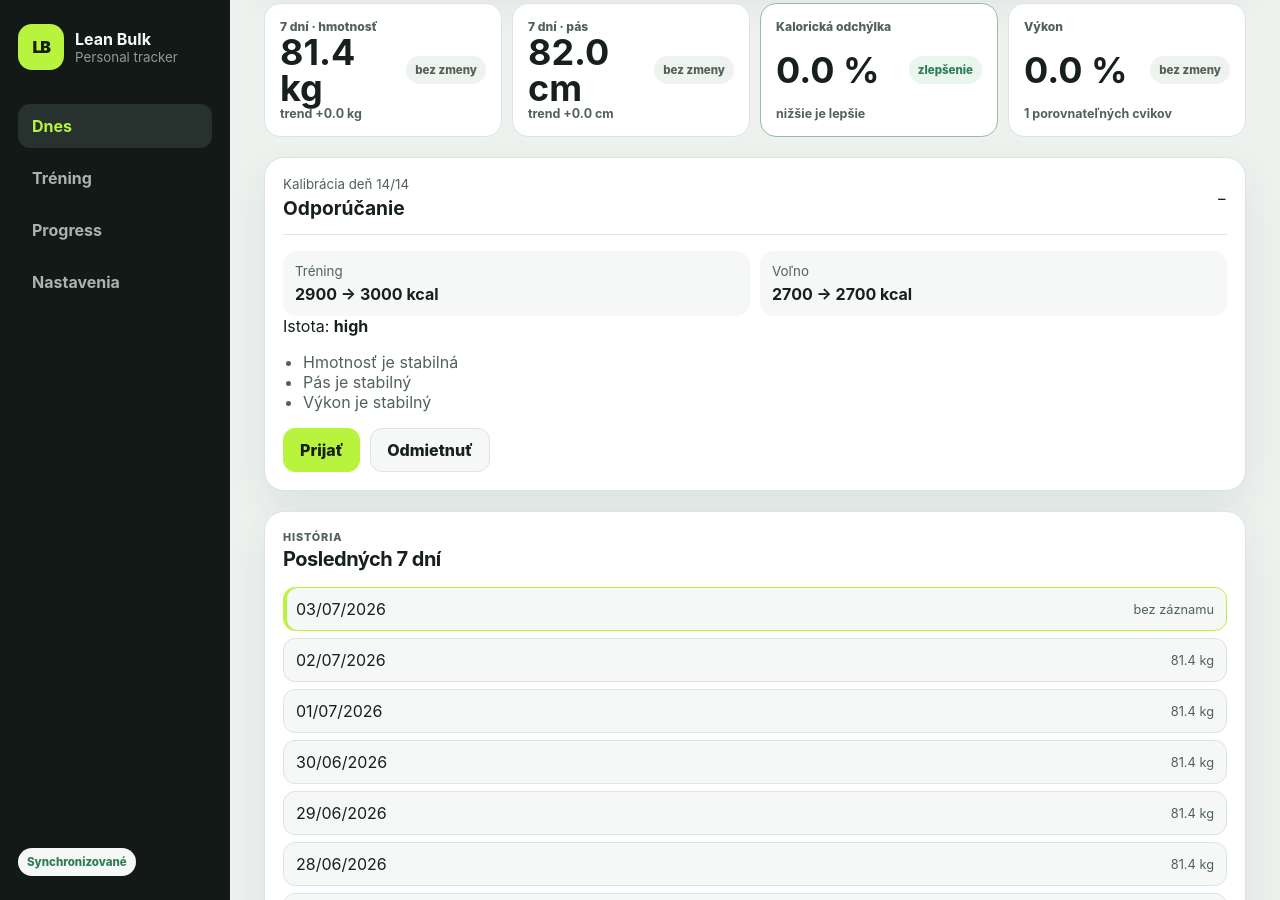
it: App demo mode › unlocks recommendation decisions and shows an error after a failed save
The image size is (1280, 900).
(page scrolled)
Click the button "Prijať". click: (322, 450)
box: [283, 428, 360, 472]
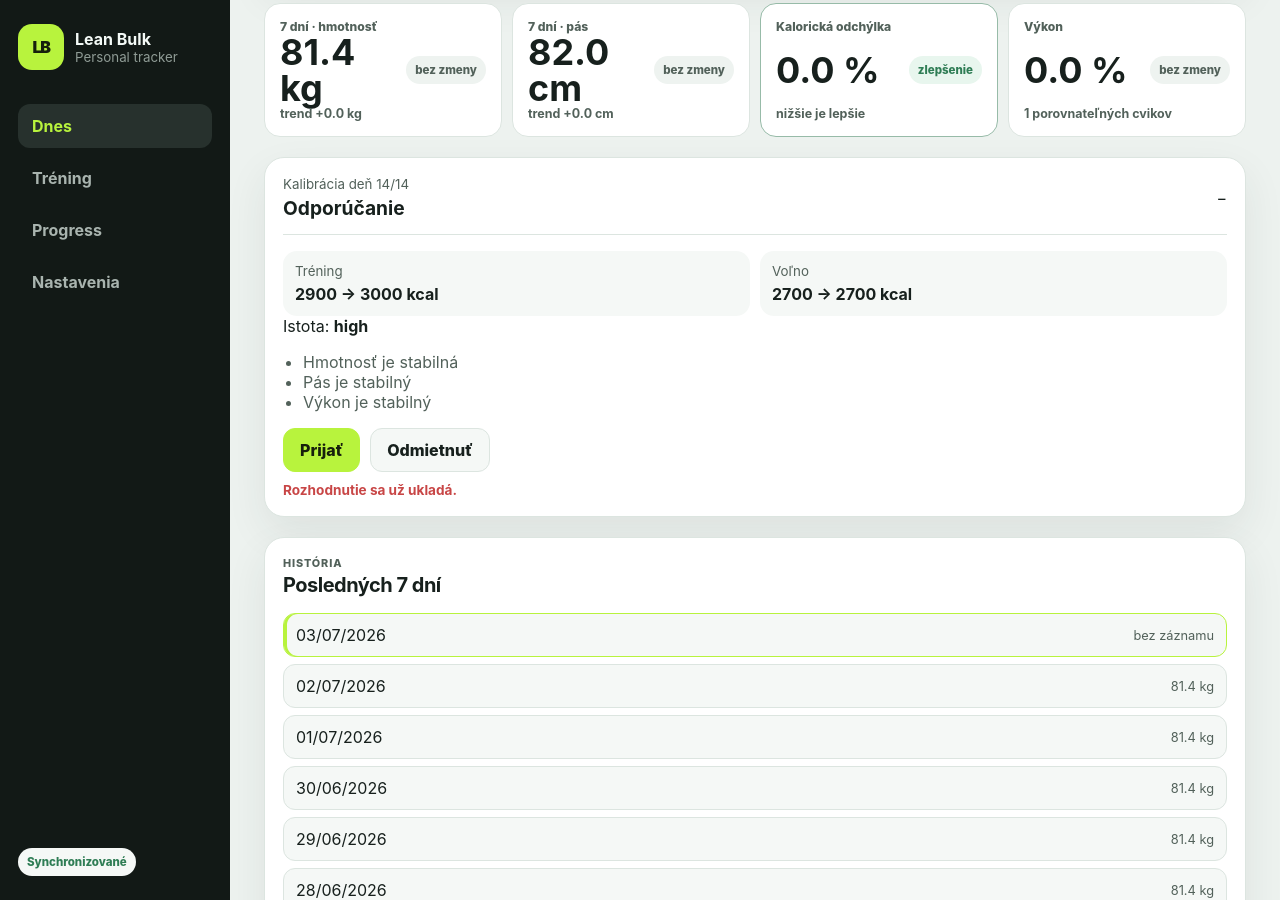
Check: the button "Odmietnuť" is enabled, box [370, 428, 490, 472]
Check: the text "Rozhodnutie sa už ukladá." is shown, box [283, 482, 457, 498]
